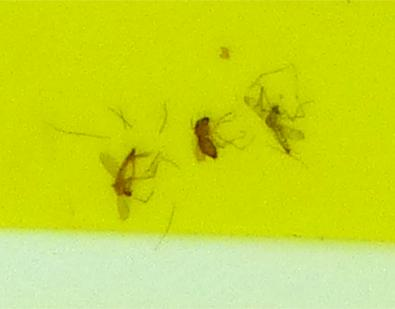Nematocera: (100, 143, 144, 209), (251, 100, 295, 155), (186, 110, 220, 165)
